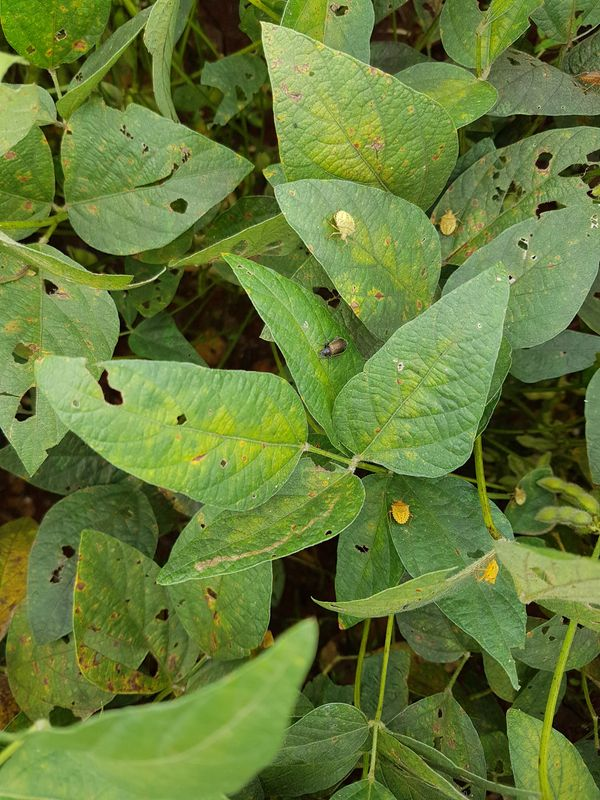Euschistus_heros_ninfa: (325, 208, 359, 247), (382, 495, 415, 530), (473, 555, 502, 589), (435, 207, 466, 238), (507, 484, 530, 509)
Lagria_villosa: (311, 334, 351, 364)
